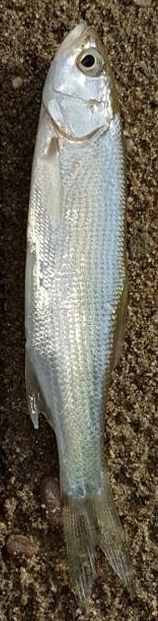Aspius aspius: (20, 20, 138, 601)
